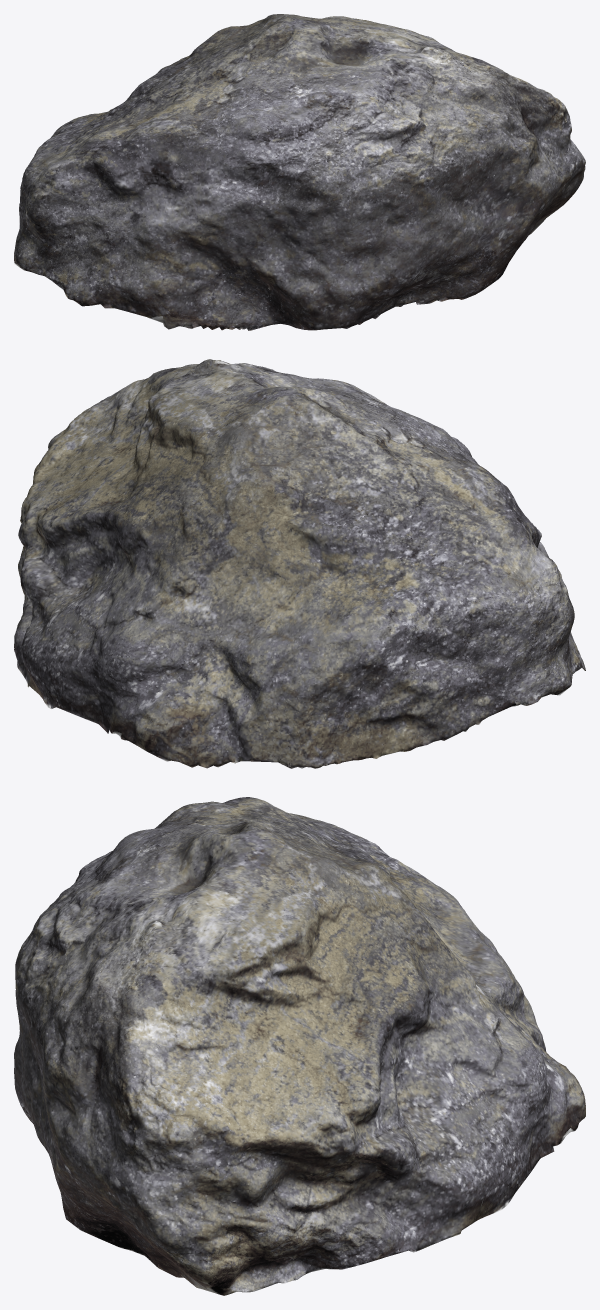
File: sparse3.glb
The picture shows the model from 3 angles, top to bottom: view 1: azimuth 30°, elevation 25°; view 2: azimuth 150°, elevation 25°; view 3: azimuth 270°, elevation 25°; orthographic projection. The views are drawn at different scales.
Bounding box in the file's own units: 4.57 × 2.1 × 3.4.
Materials: 1 (1 with a texture image).
